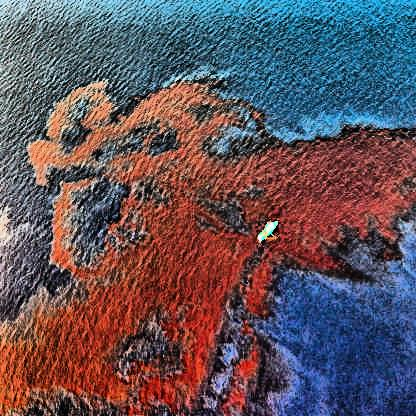truecolor: (0, 82, 416, 416)
